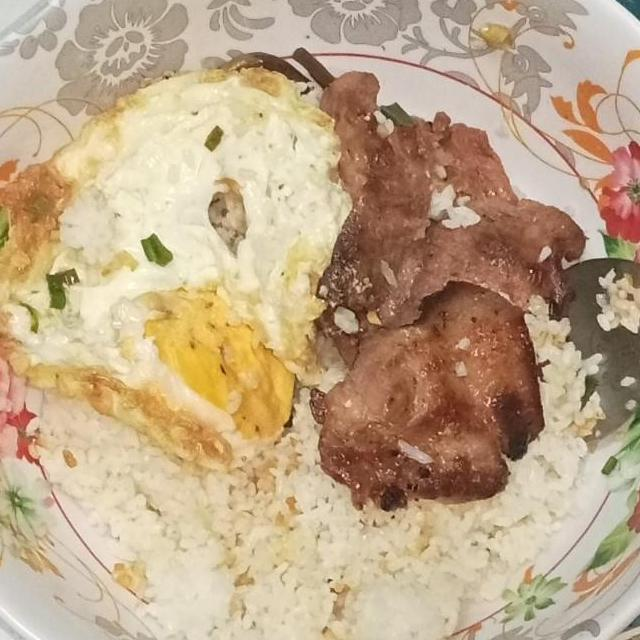com: (26, 397, 341, 640), (294, 471, 566, 640), (475, 346, 614, 576)
suon: (297, 63, 592, 334), (298, 258, 549, 514)
trung: (0, 61, 362, 474)
